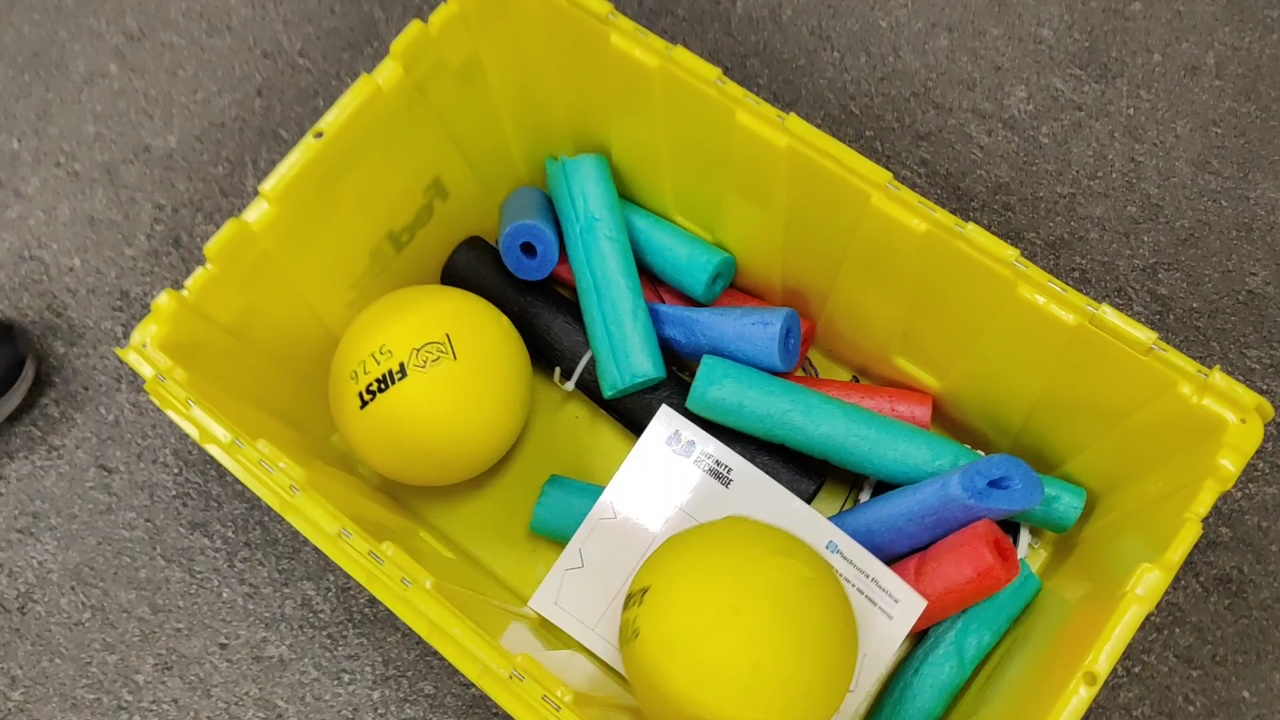Ball: (615, 515, 856, 720), (330, 288, 525, 487)
